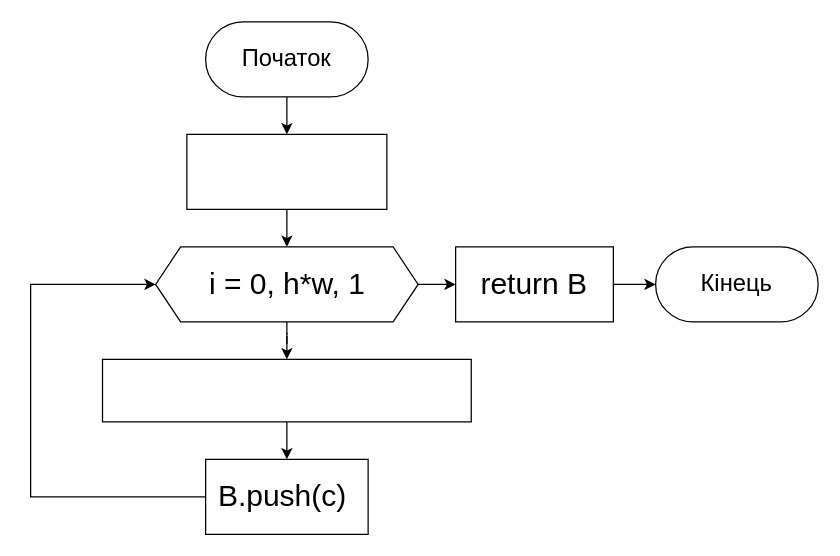
The diagram is 840 pixels wide and 556 high, and some of its shapes have lost their labels. Here are the shapes that lost their labels. From the top down, the centre of each, then its label:
At pixel 286 171: "B = [h, w]".
At pixel 286 390: "c = A[i][0] · A[i][1] · A[i][2]".
